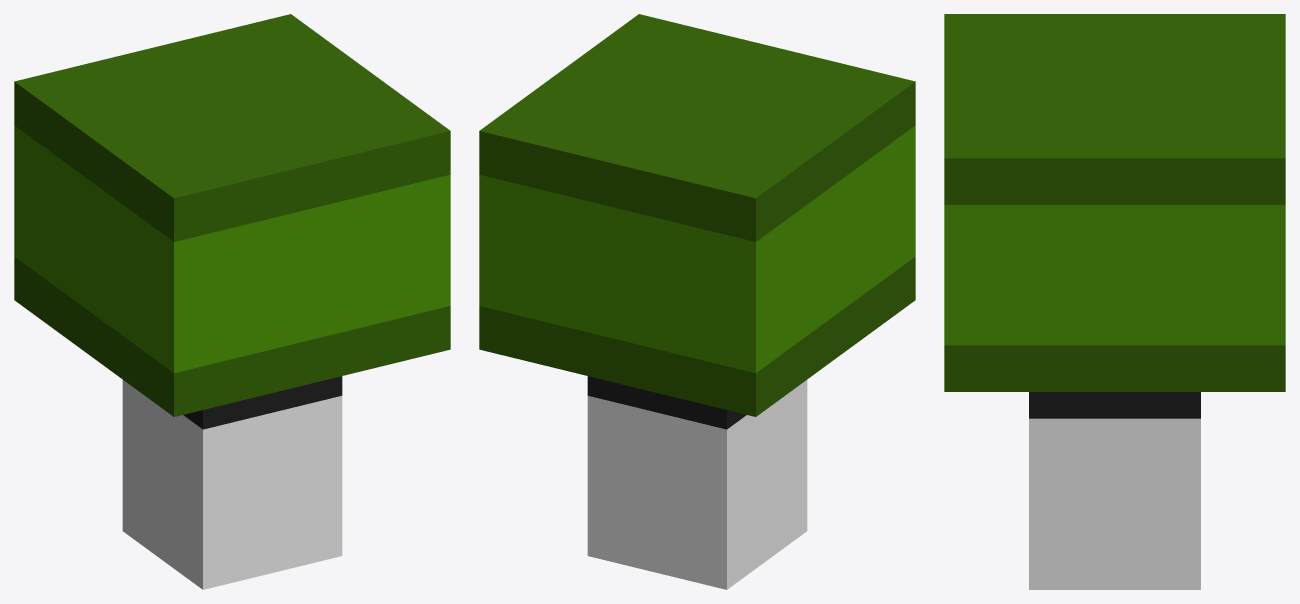
Rendered from tree1.fbx.
3 renders of one model, left to right at view 1: azimuth 30°, elevation 25°; view 2: azimuth 150°, elevation 25°; view 3: azimuth 270°, elevation 25°, orthographic. The views are drawn at different scales.
Visible parts, largest first — view 1: Model; view 2: Model; view 3: Model.
Boxes of the visible parts, x1=… form: Model: x1=14, y1=14, x2=450, y2=589; Model: x1=479, y1=14, x2=915, y2=589; Model: x1=944, y1=14, x2=1285, y2=589.
Size of the model in its own units: 0.993 by 1.5 by 0.993.
